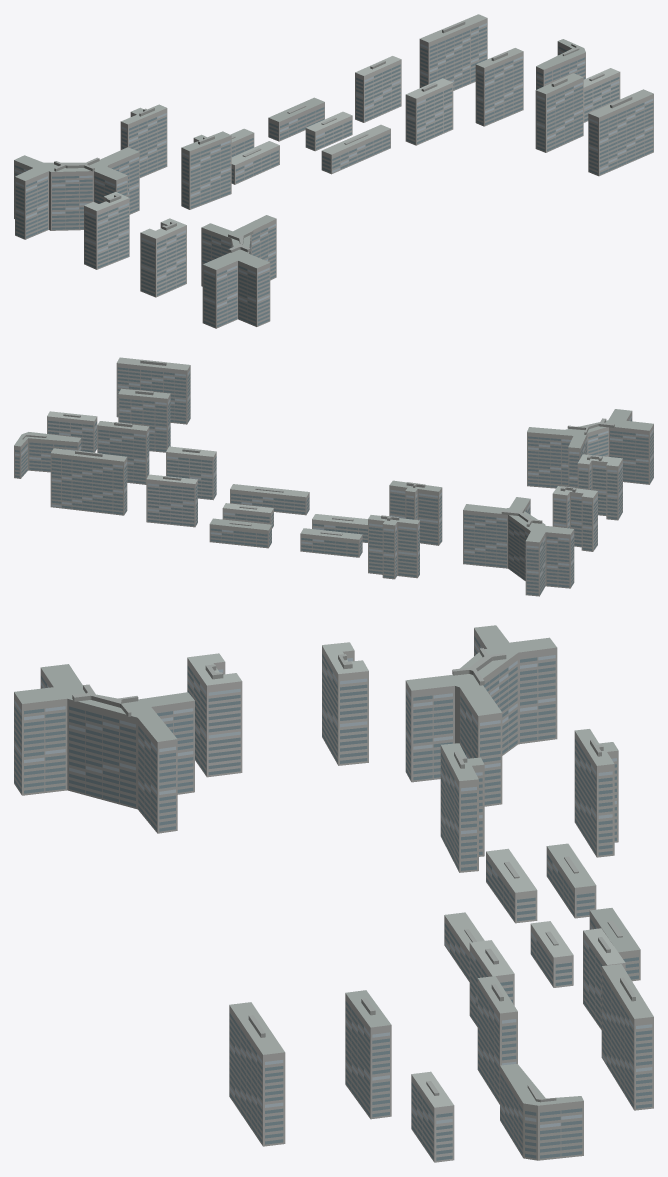
The model's file is apt-a13983004.glb.
3 renders of one model, top to bottom at view 1: azimuth 30°, elevation 25°; view 2: azimuth 150°, elevation 25°; view 3: azimuth 270°, elevation 25°, orthographic. The views are drawn at different scales.
Visible parts, largest first — view 1: apt-a13983004; view 2: apt-a13983004; view 3: apt-a13983004.
Boxes of the visible parts, box(x1,y1,x2,y2) form: apt-a13983004: box(14, 14, 653, 328); apt-a13983004: box(14, 357, 653, 596); apt-a13983004: box(14, 625, 653, 1162).
Bounding box in the file's own units: 477 × 47.81 × 289.
